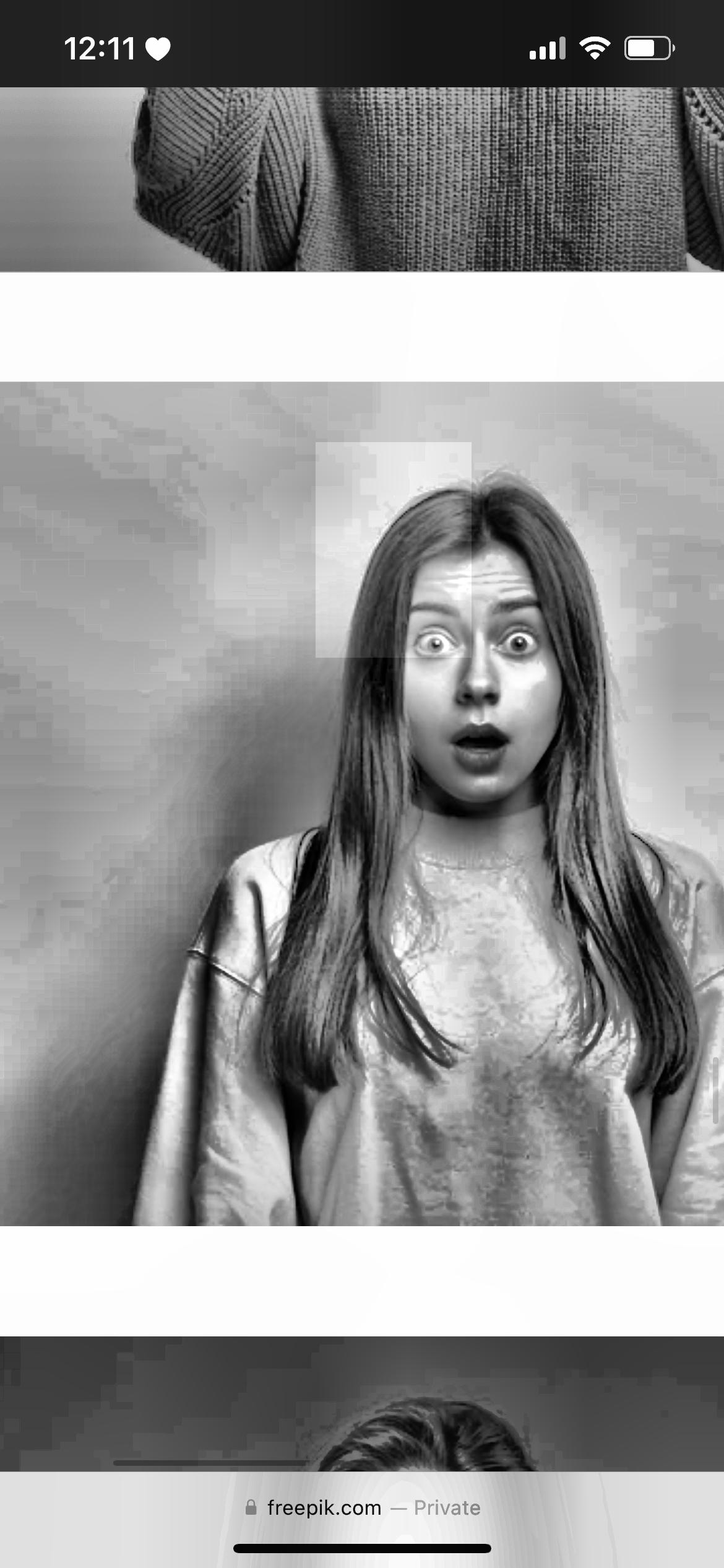surprised: (390, 547, 583, 813)
